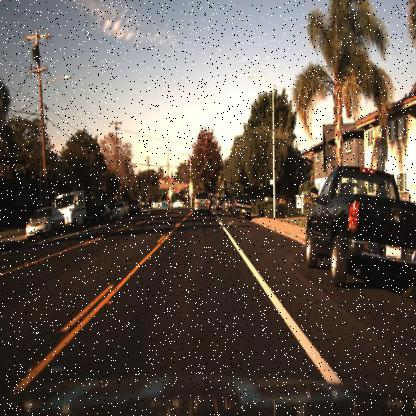car: (304, 166, 415, 288), (22, 206, 63, 245), (62, 191, 90, 231), (87, 201, 111, 228), (192, 186, 210, 218), (112, 198, 134, 222), (231, 195, 252, 220), (128, 199, 140, 218), (169, 197, 184, 212)
